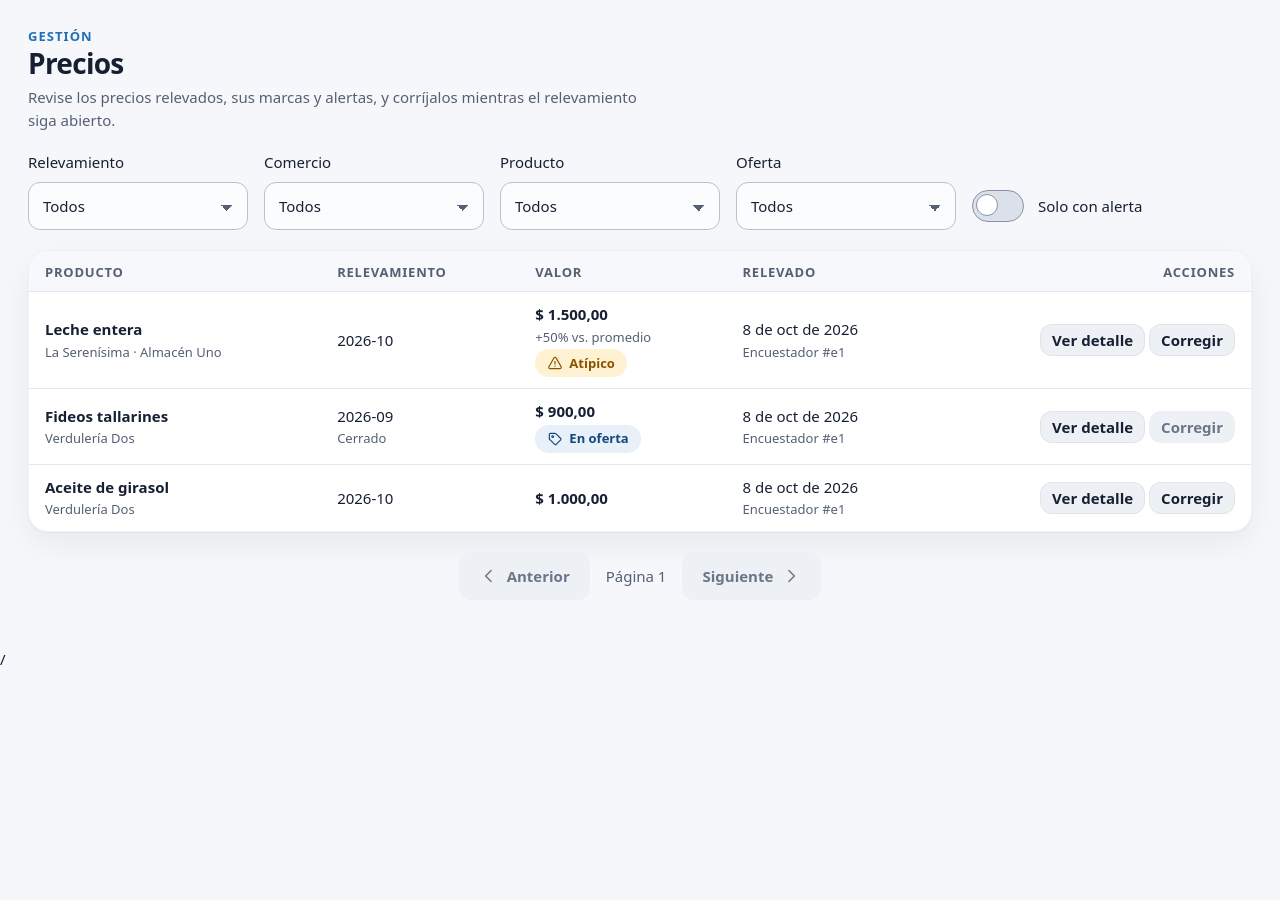
Test case: correction › asks for a change, shows before and after, and only sends the server what changed
Click the button "Corregir" in the row of "Leche entera".
click(1192, 340)  # box [1149,324,1235,356]
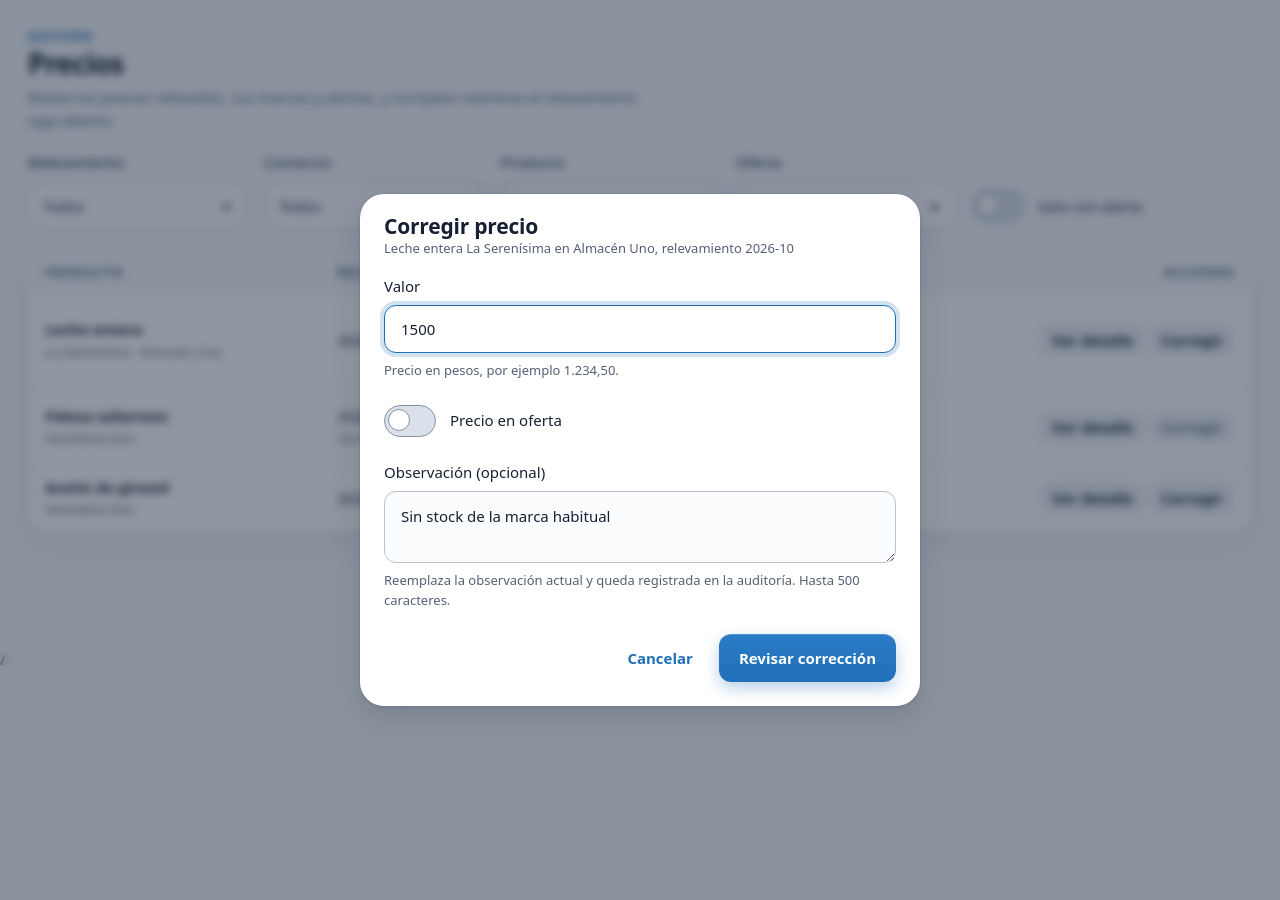
Click the button "Revisar corrección".
click(807, 658)  # box [719,634,896,682]
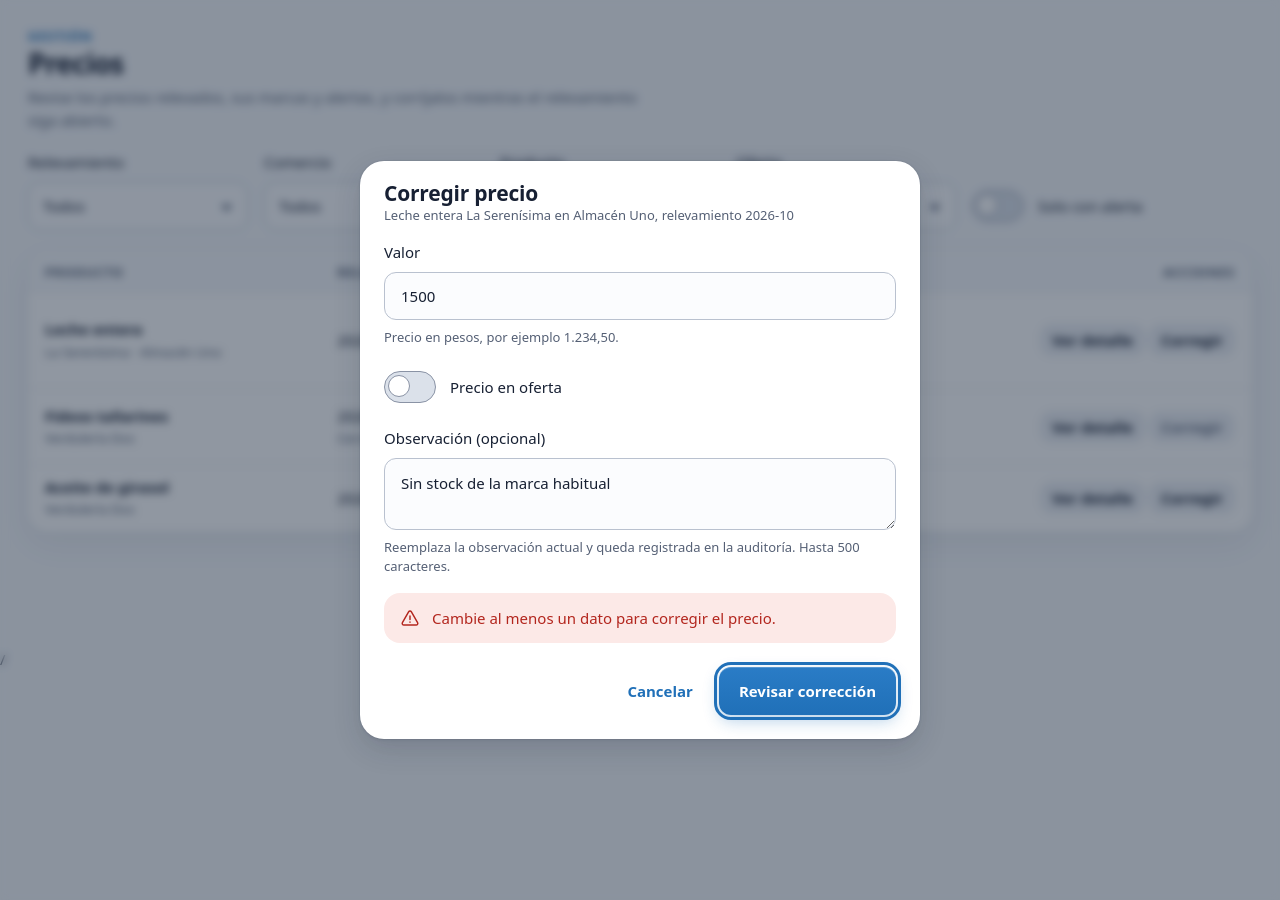
Expected: the text "Cambie al menos un dato para corregir el precio." is shown, [432,607,776,629]
Replace the text in the field labelled "Valor" with "1.100,00" at (640, 296), box [384,272,896,320]
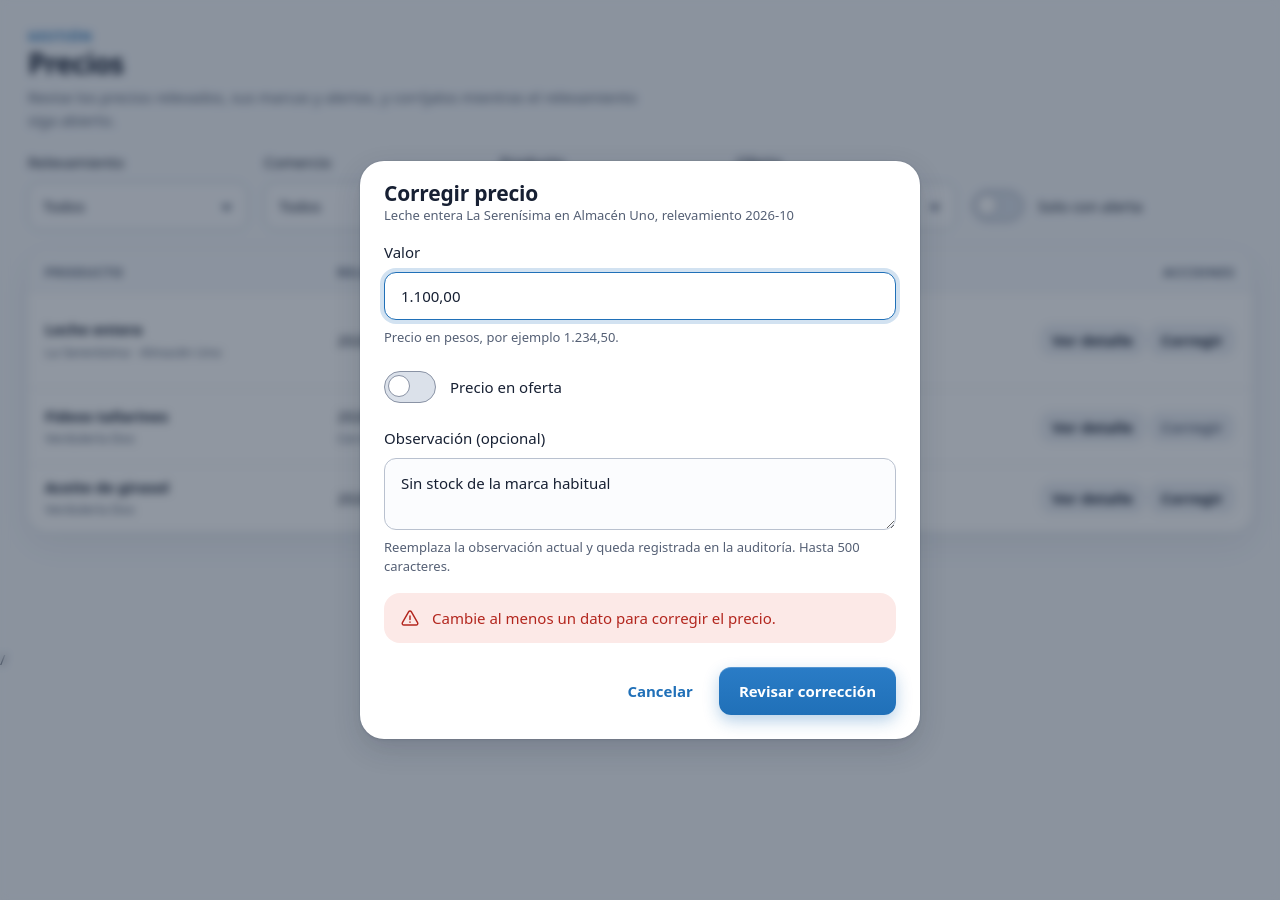
Click the button "Revisar corrección".
click(807, 691)  # box [719,667,896,715]
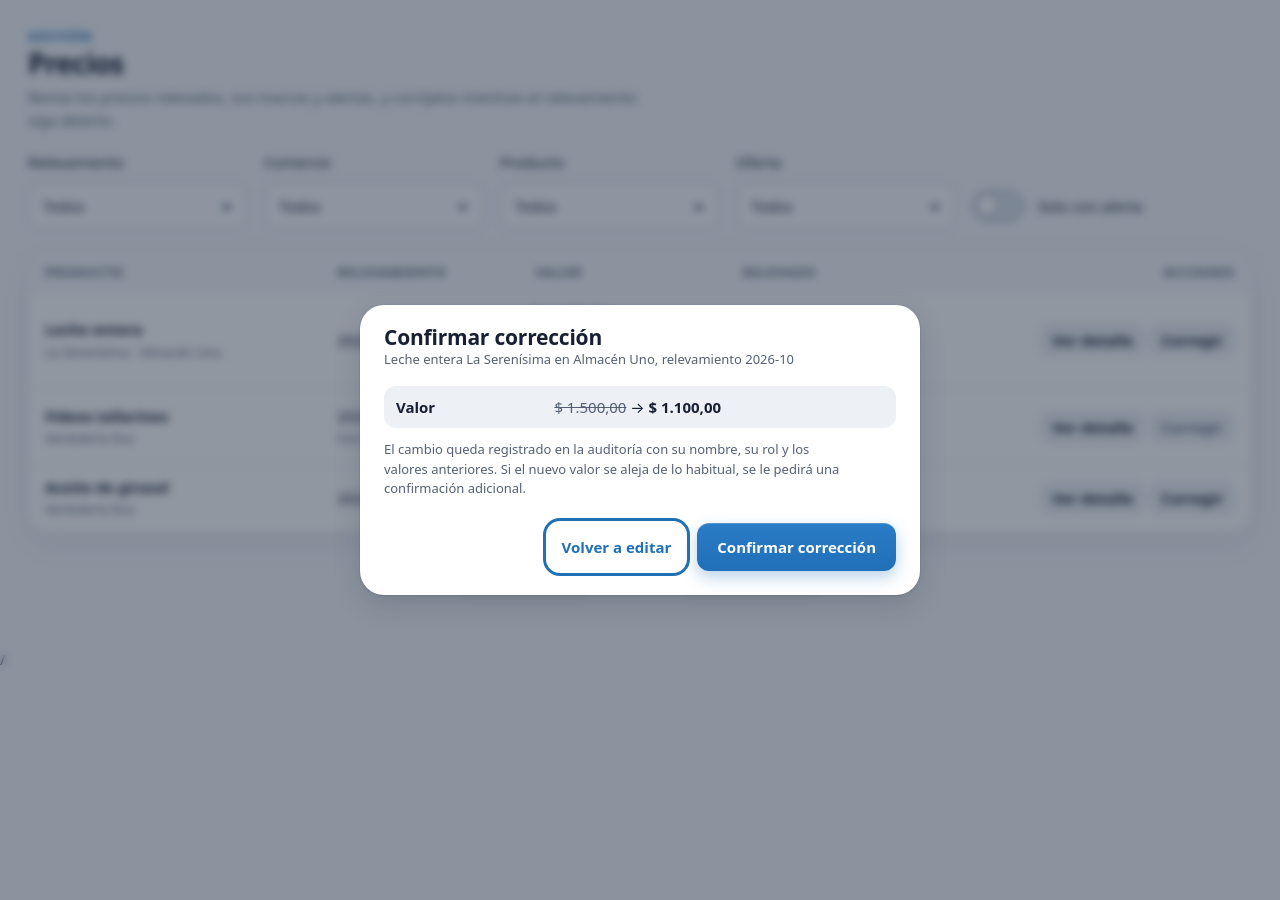
Expected: the text "queda registrad" is shown, [384,440,839,497]
Click the button "Confirmar corrección".
click(797, 547)  # box [697,523,896,571]
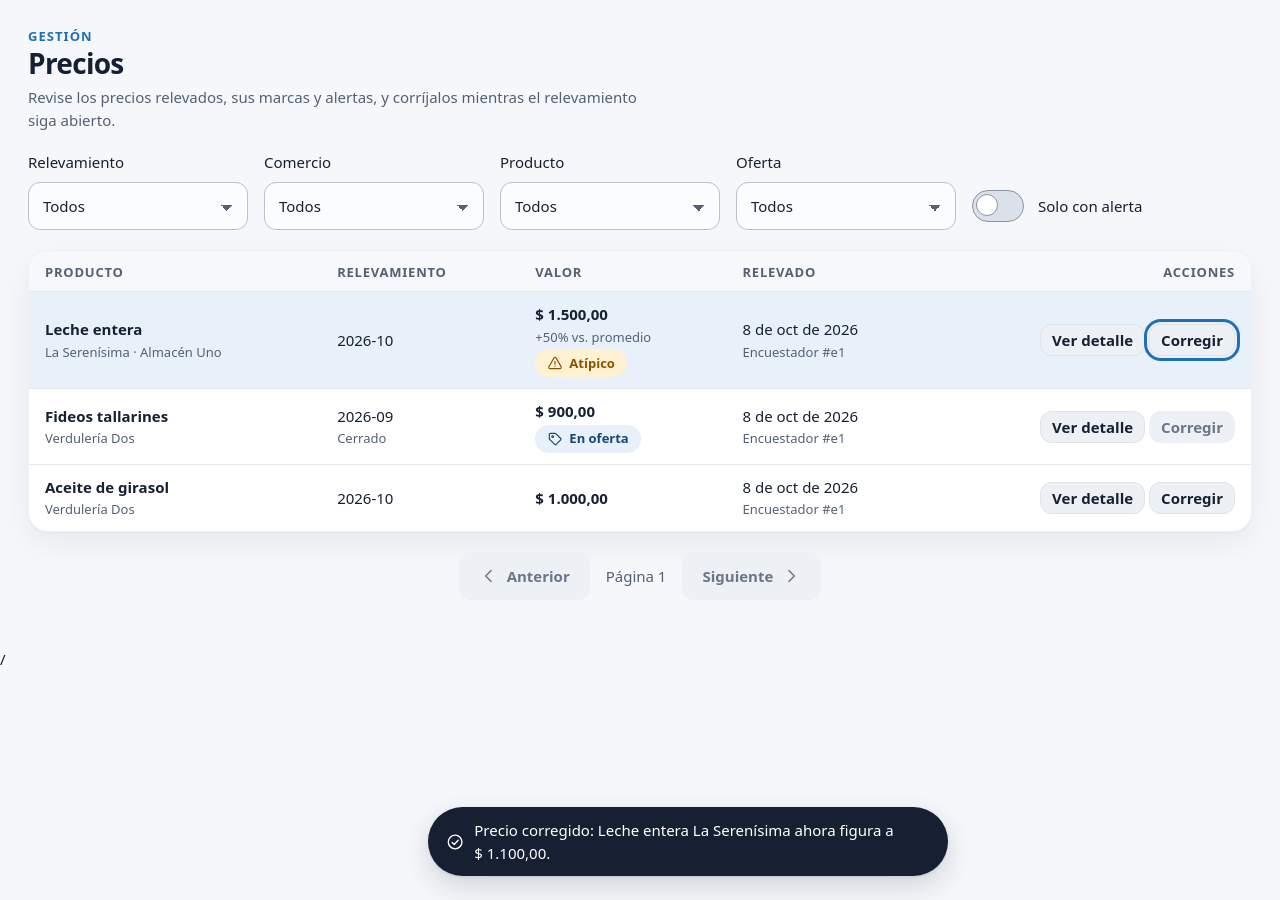
Expected: the dialog is gone
Expected: the text "Precio corregido" is shown, [474,820,894,862]
